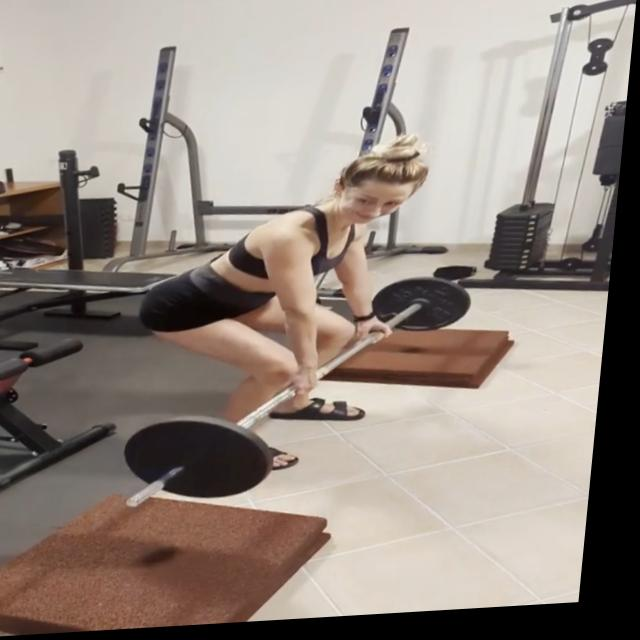barbell: (122, 411, 288, 517)
